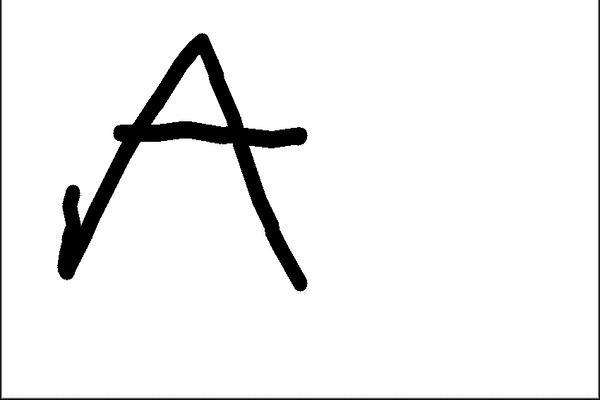A: (35, 22, 319, 299)
